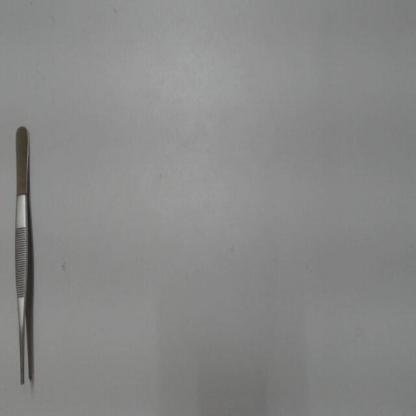Gillies Toothed Dissector: (10, 113, 36, 390)
